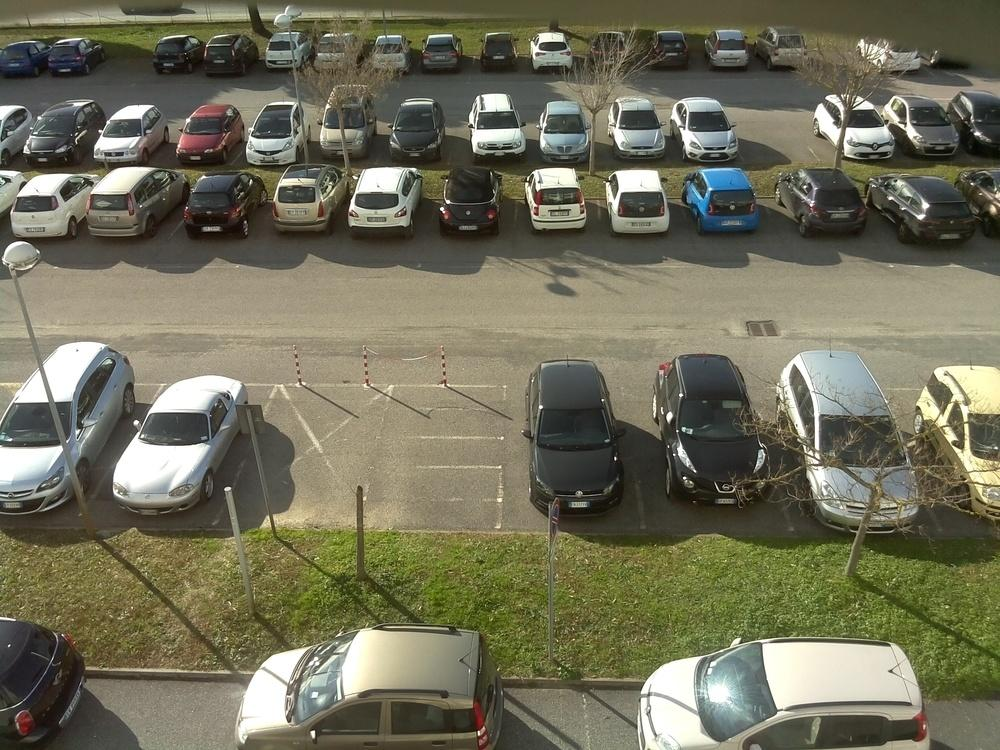empty: (633, 635, 951, 750), (234, 629, 509, 750), (781, 353, 924, 541), (0, 332, 136, 514), (106, 368, 249, 514), (652, 351, 786, 503), (524, 354, 638, 513), (2, 621, 85, 744), (872, 172, 985, 248), (927, 370, 997, 476), (79, 170, 179, 240), (779, 168, 877, 238), (340, 163, 424, 238), (682, 169, 771, 237), (426, 167, 512, 237), (86, 126, 166, 201), (7, 172, 89, 242), (601, 172, 682, 241), (180, 173, 263, 239), (817, 97, 901, 162), (266, 165, 344, 234), (670, 94, 750, 160), (177, 121, 249, 191), (521, 167, 595, 235), (91, 105, 170, 168), (22, 104, 101, 167), (170, 105, 247, 168), (891, 95, 967, 157), (603, 97, 673, 162), (465, 93, 530, 161), (238, 106, 306, 166), (381, 100, 447, 161), (534, 103, 599, 164), (317, 97, 376, 157), (955, 97, 1000, 154), (701, 28, 759, 72), (758, 29, 817, 72), (39, 38, 102, 78), (200, 36, 257, 78), (968, 173, 1000, 243), (152, 34, 206, 75), (314, 32, 366, 74), (257, 32, 310, 73), (530, 33, 581, 75), (415, 35, 468, 75), (644, 31, 698, 70), (580, 31, 633, 70), (367, 33, 414, 74), (0, 44, 50, 82), (477, 36, 524, 74), (2, 110, 32, 165)
occupied: (744, 115, 805, 160), (106, 47, 157, 76)
